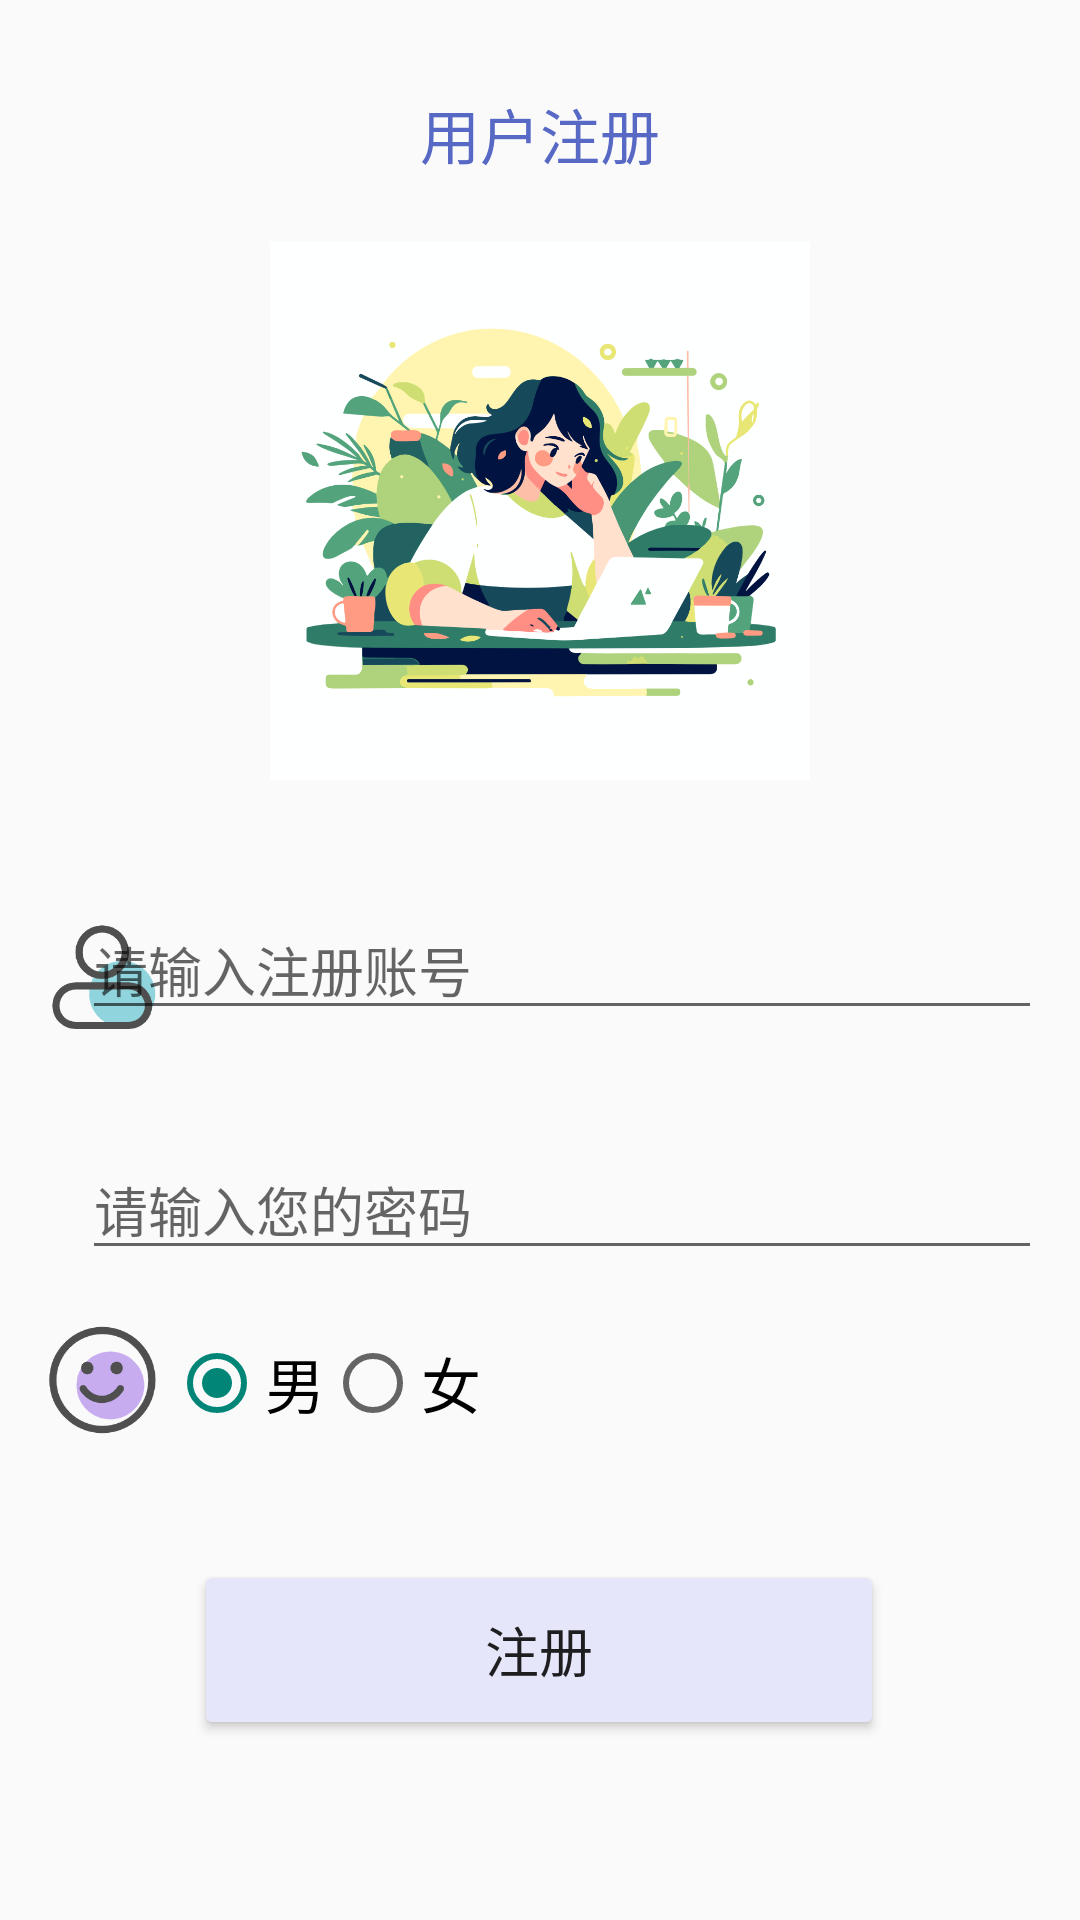

Icons on this 1080px×1920px Android screen, each with the point to tap as (x=x, y=y):
account: (x=107, y=977)
